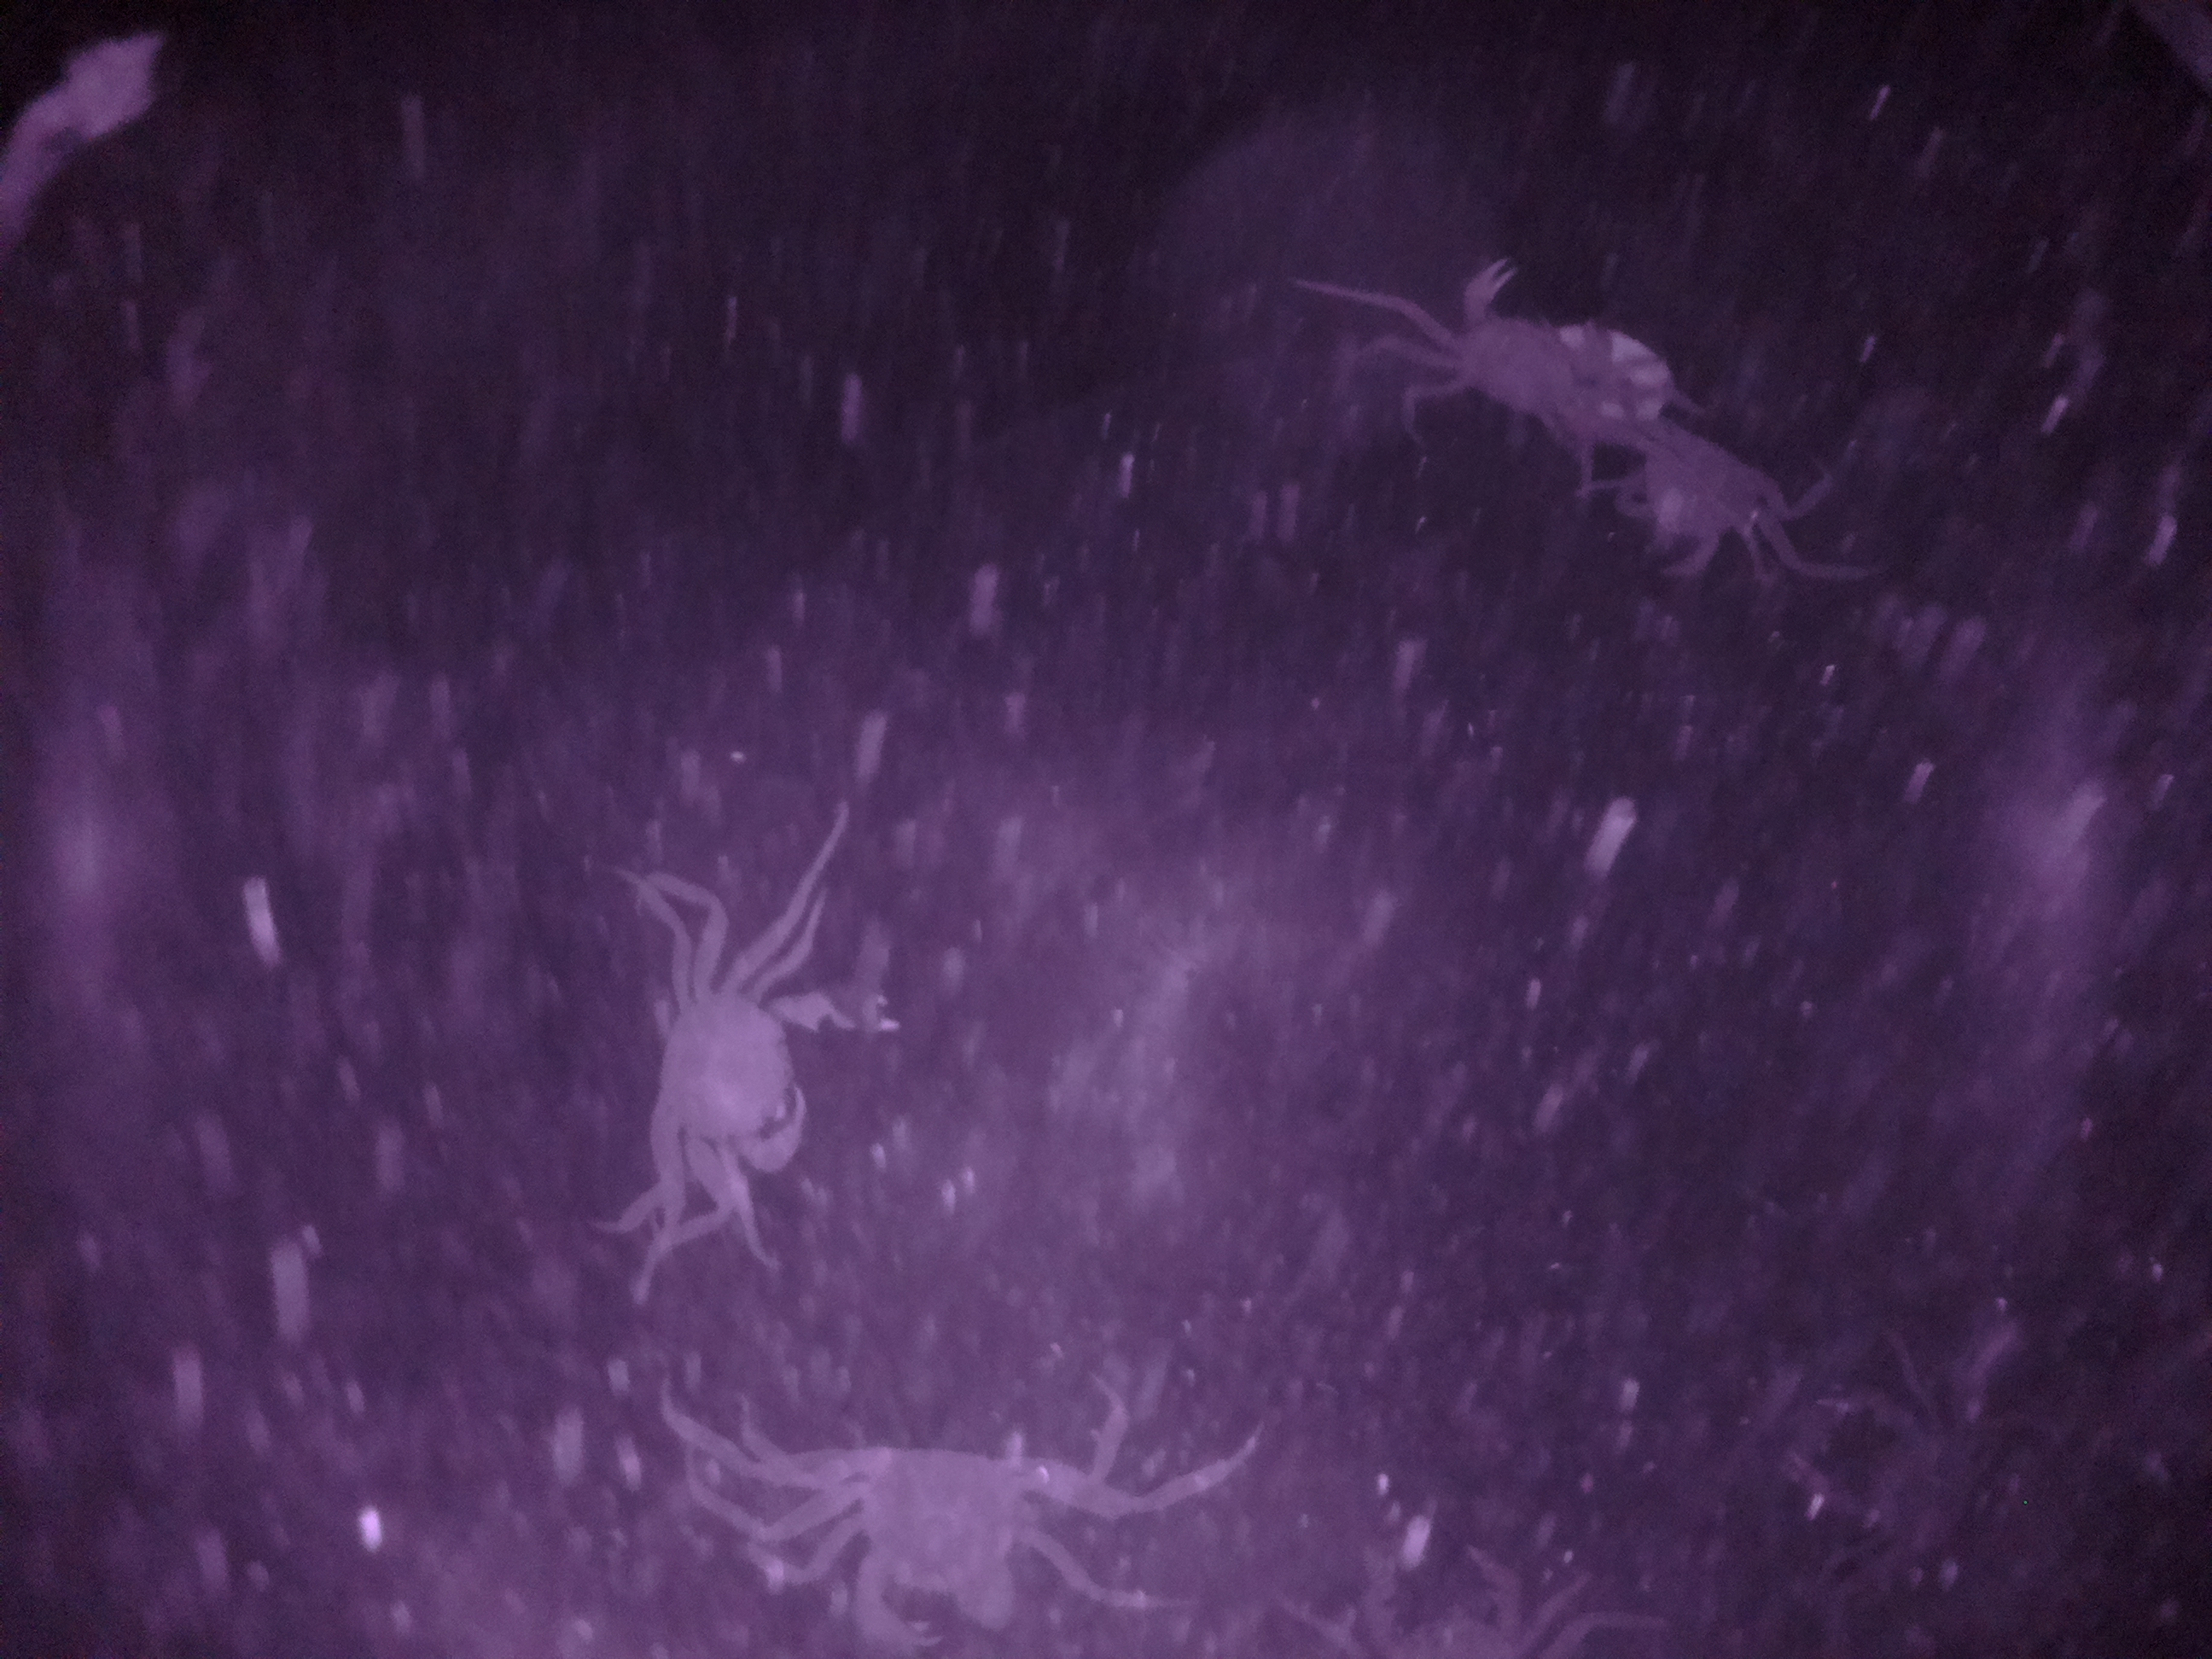Crab: (632, 931, 954, 1206), (801, 1389, 1085, 1659), (1390, 223, 1644, 472)
